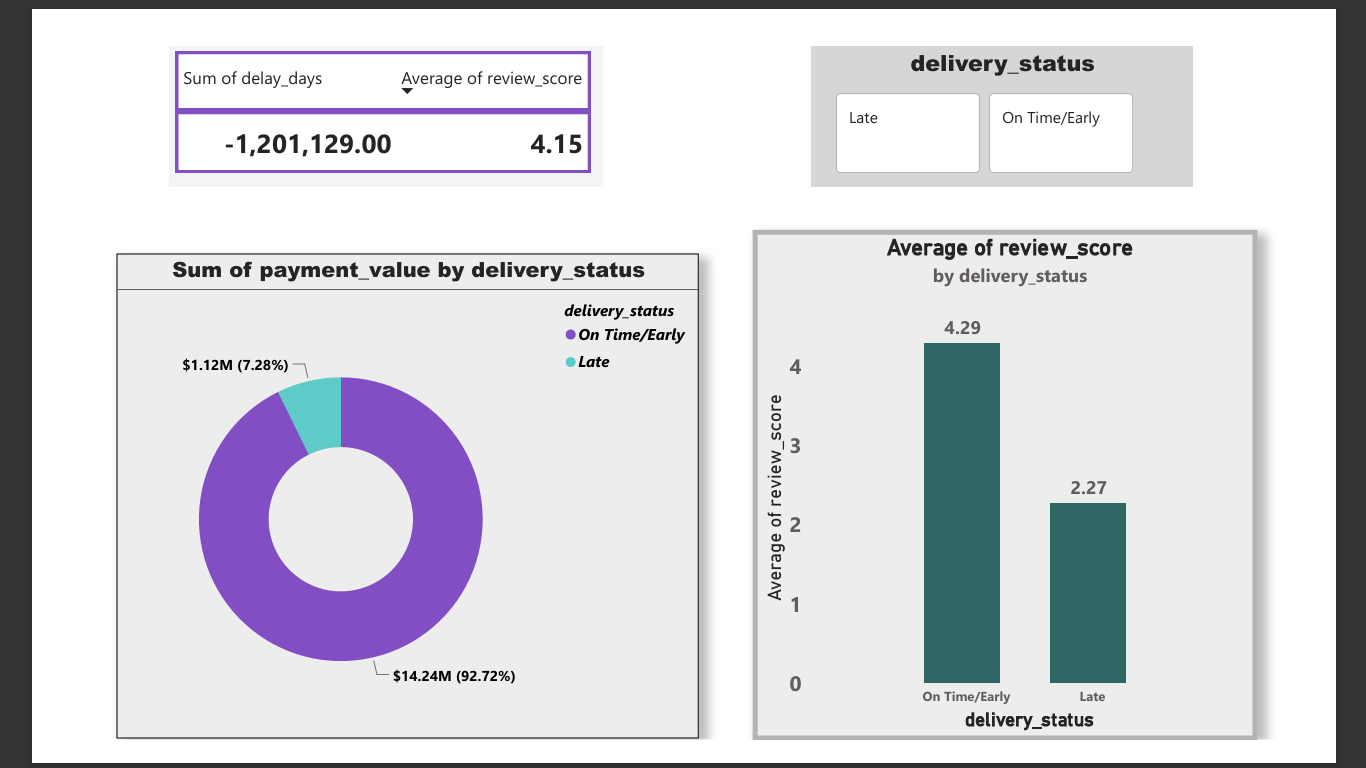

What the dashboard file says about the page in this screenshot:
{"tool":"powerbi","page":{"name":"Page 2","canvas":[1280,720],"ordinal":1},"visuals":[{"type":"donutChart","fields":{"Y":["Sum(olist_db olist_clean_analytics.payment_value)"],"Category":["olist_db olist_clean_analytics.delivery_status"]},"box":[62.2,224.6,592.7,494.5],"z":0},{"type":"tableEx","fields":{"Values":["Sum(olist_db olist_clean_analytics.delay_days)","Avg(olist_db olist_clean_analytics.review_score)"]},"box":[116.3,14,440.7,143.4],"z":1000},{"type":"advancedSlicerVisual","fields":{"Values":["olist_db olist_clean_analytics.delivery_status"]},"box":[769.9,14,389.4,143.4],"z":2000},{"type":"columnChart","fields":{"Category":["olist_db olist_clean_analytics.delivery_status"],"Y":["Avg(olist_db olist_clean_analytics.review_score)"]},"box":[709.8,200.5,514.5,520],"z":3000}]}

Visuals, with their boxes in screenshot pixels (x1, y1, x2, y2), scaled from the page's 1280x720 canvas onto the 1366x768 screenshot:
donutChart - Sum(olist_db olist_clean_analytics.payment_value) x olist_db olist_clean_analytics.delivery_status: 66/240/699/767
tableEx - Sum(olist_db olist_clean_analytics.delay_days) x Avg(olist_db olist_clean_analytics.review_score): 124/15/594/168
advancedSlicerVisual - olist_db olist_clean_analytics.delivery_status: 822/15/1237/168
columnChart - olist_db olist_clean_analytics.delivery_status x Avg(olist_db olist_clean_analytics.review_score): 757/214/1307/767
